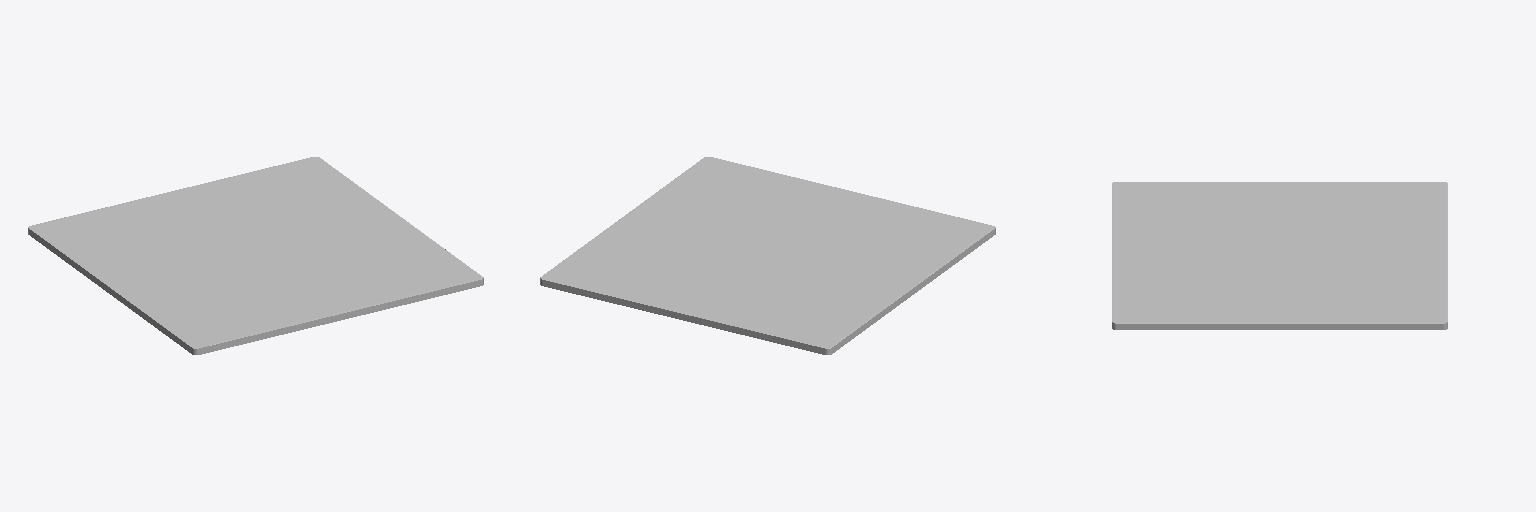
The model's file is PlacementIndicator.obj.
3 renders of one model, left to right at view 1: azimuth 30°, elevation 25°; view 2: azimuth 150°, elevation 25°; view 3: azimuth 270°, elevation 25°, orthographic.
Parts seen in each view (by area): view 1: Cube; view 2: Cube; view 3: Cube.
Boxes of the visible parts, x1=… form: Cube: x1=28, y1=157, x2=483, y2=354; Cube: x1=540, y1=157, x2=995, y2=354; Cube: x1=1112, y1=182, x2=1447, y2=329.
Size of the model in its own units: 2 by 0.0444 by 2.